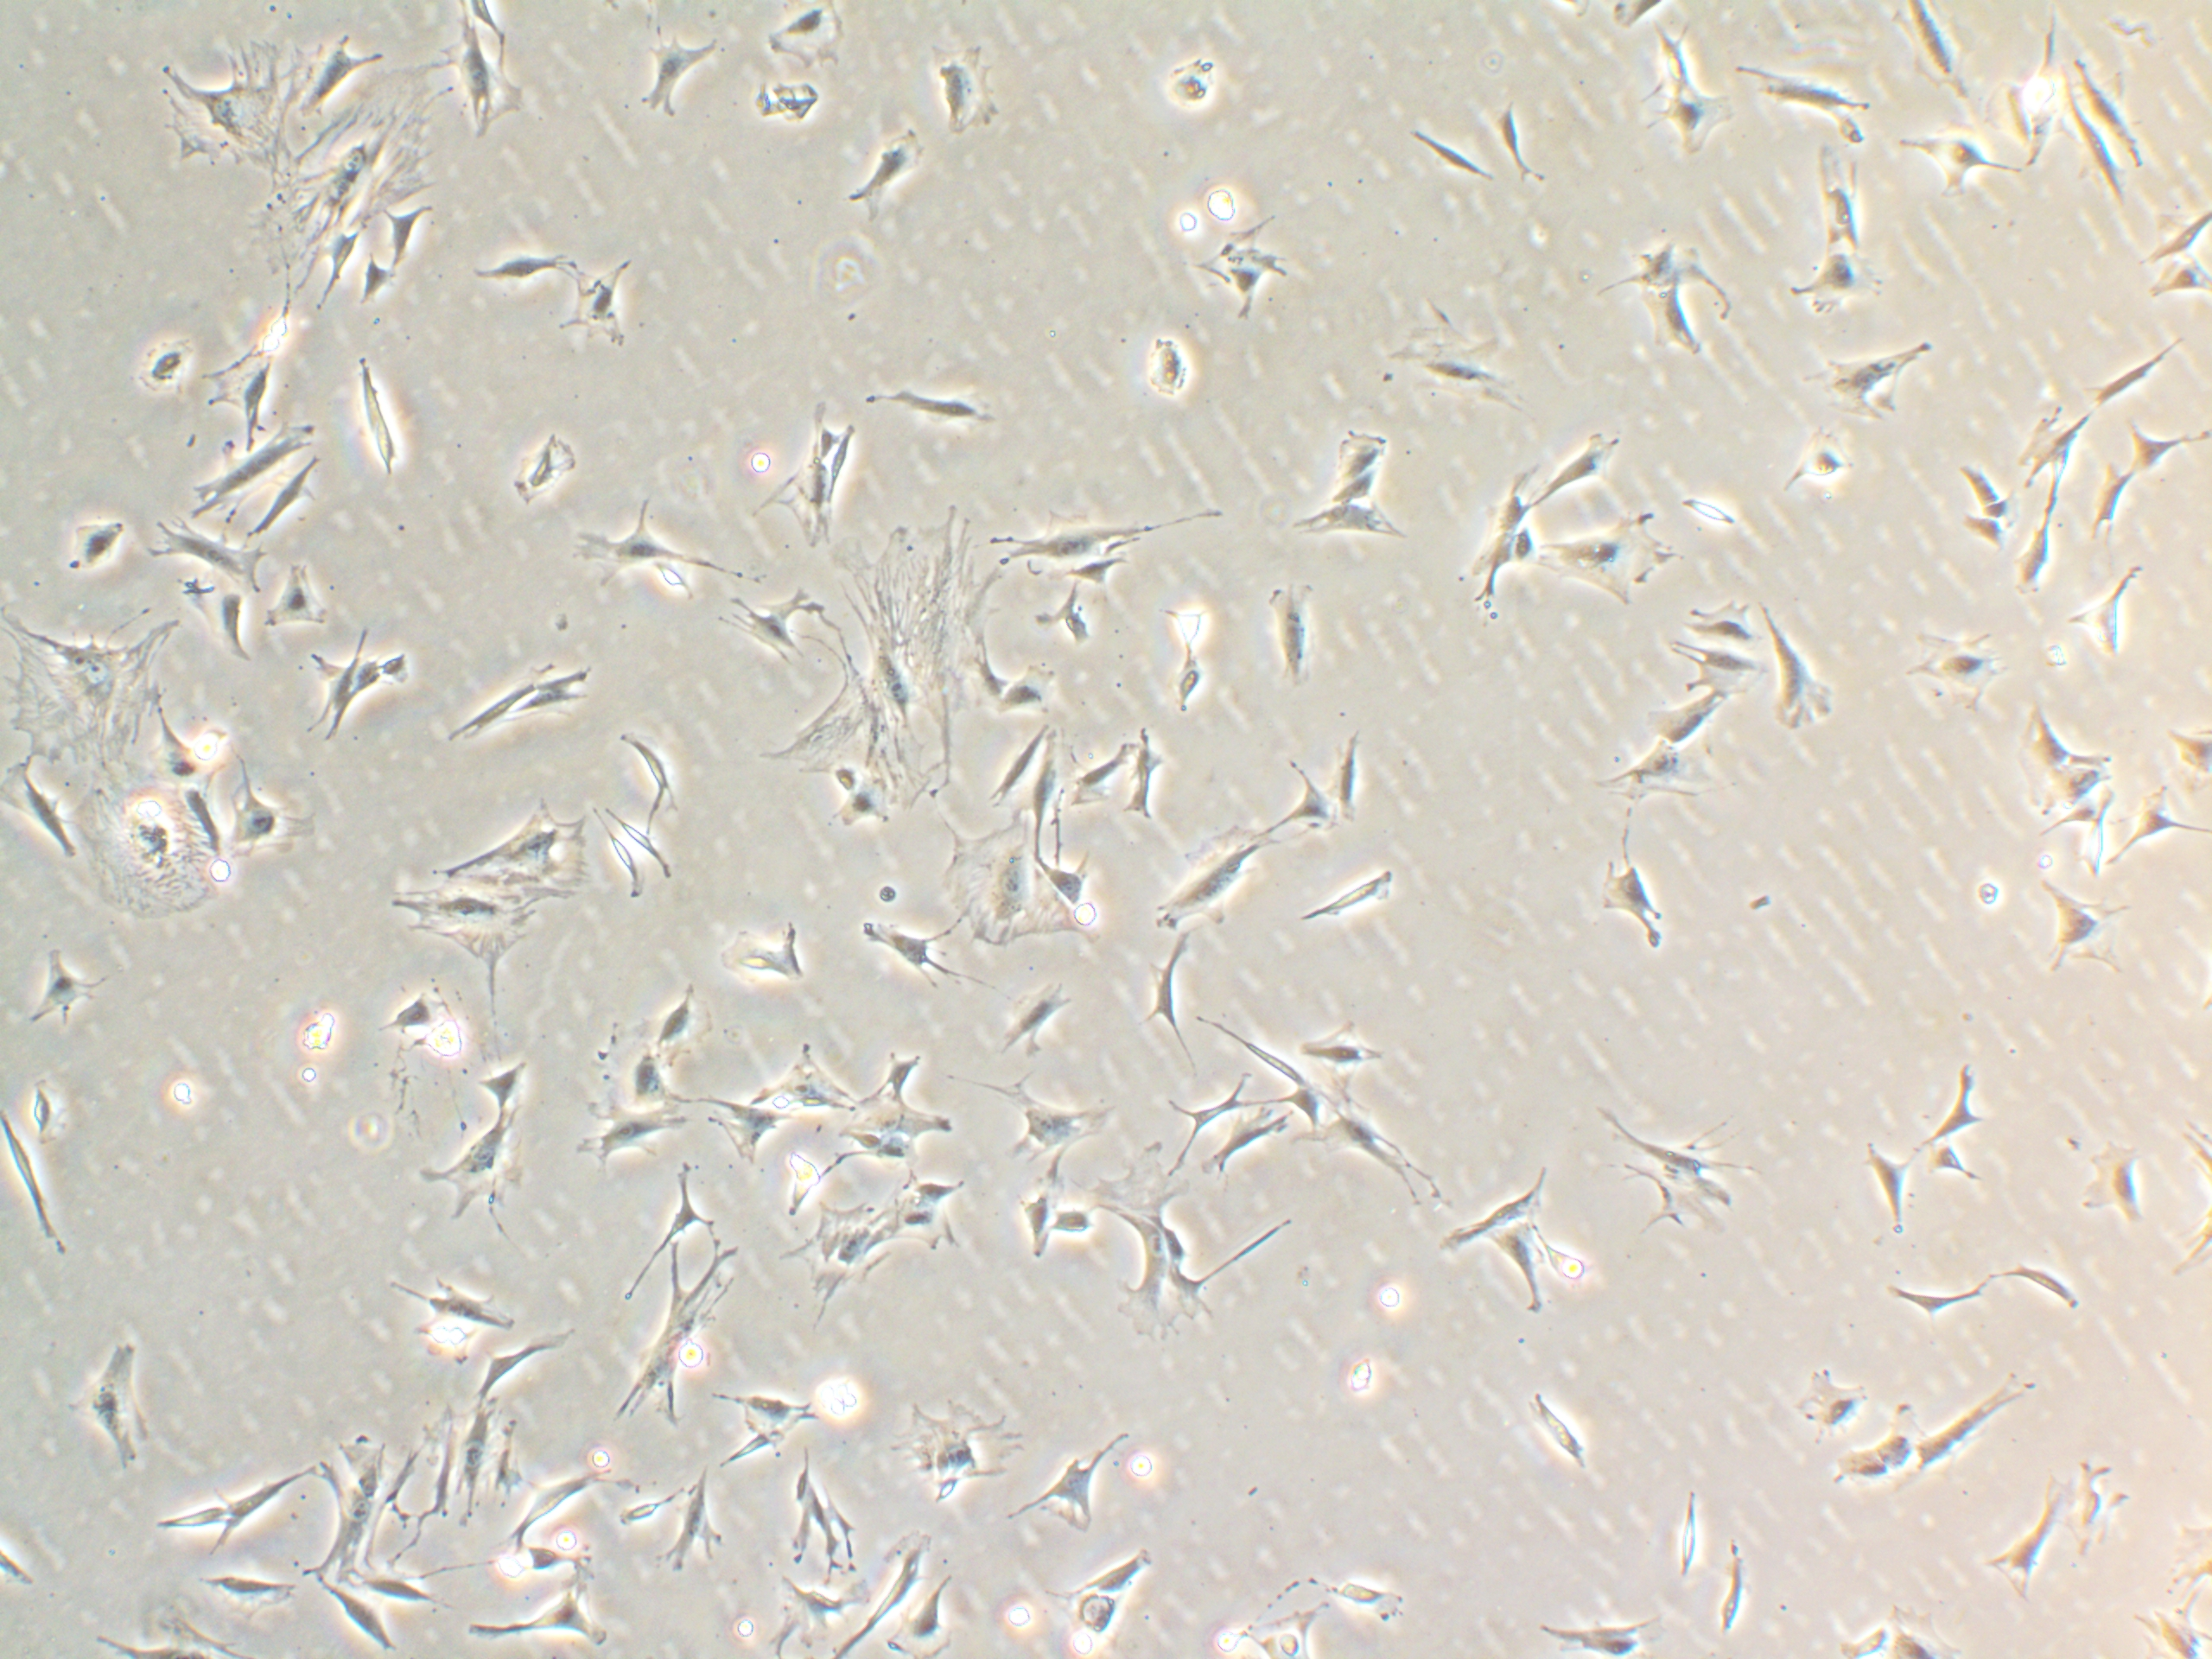Etc: (1179, 1009, 1320, 1091), (340, 354, 421, 495), (1294, 852, 1404, 927), (611, 725, 691, 823), (601, 802, 679, 889), (583, 807, 646, 913), (1663, 1473, 1717, 1593), (1672, 484, 1752, 544), (148, 1499, 230, 1544)
polygonal: (573, 486, 784, 622), (1594, 1101, 1763, 1255), (1376, 296, 1554, 425), (1000, 488, 1235, 582), (56, 1312, 181, 1486), (1911, 1358, 2052, 1490), (1747, 587, 1851, 756), (1876, 612, 2022, 732), (392, 1114, 523, 1246), (1012, 1419, 1155, 1537), (1305, 1089, 1451, 1204), (961, 1079, 1144, 1169), (192, 408, 331, 526), (1717, 52, 1883, 150), (833, 1513, 942, 1659), (1139, 823, 1270, 941), (1890, 108, 2033, 213), (1420, 1159, 1564, 1262), (2019, 877, 2146, 992), (469, 1565, 618, 1659), (2043, 73, 2144, 213), (853, 908, 995, 1007), (1803, 331, 1951, 425), (700, 908, 819, 1023), (1982, 1471, 2080, 1608), (1136, 931, 1211, 1094), (1109, 1192, 1181, 1361), (143, 516, 277, 605), (738, 1039, 866, 1131), (1578, 742, 1735, 816), (559, 1093, 685, 1182), (923, 33, 1014, 155), (2080, 321, 2193, 418), (197, 1459, 327, 1542), (1251, 566, 1332, 699), (1526, 423, 1641, 518), (1831, 1134, 1923, 1251), (655, 1462, 732, 1601), (853, 378, 1014, 444), (465, 1321, 582, 1412), (2101, 781, 2212, 875), (1634, 78, 1740, 176), (1198, 216, 1291, 328), (2078, 1121, 2170, 1232), (449, 648, 557, 742), (1487, 91, 1569, 214), (1916, 1058, 2008, 1166), (542, 242, 634, 350), (1585, 847, 1676, 957), (1993, 1237, 2101, 1328), (1273, 491, 1433, 552), (1526, 1601, 1695, 1659), (691, 1089, 794, 1182), (1390, 113, 1507, 193), (202, 342, 294, 443), (496, 1457, 604, 1542), (606, 981, 711, 1068), (1629, 281, 1714, 385), (631, 28, 723, 122), (305, 1567, 401, 1657), (836, 127, 925, 225), (1315, 718, 1393, 828), (686, 1382, 822, 1445), (1047, 1542, 1160, 1617), (1487, 1220, 1566, 1324), (1280, 1007, 1404, 1073), (465, 239, 594, 301), (1864, 1270, 2000, 1328), (996, 965, 1078, 1060), (894, 1558, 968, 1659), (981, 718, 1062, 810), (1029, 711, 1076, 871), (1763, 256, 1902, 310), (197, 1563, 307, 1631), (17, 941, 101, 1030), (247, 450, 320, 547), (1198, 1101, 1282, 1187), (1527, 1389, 1604, 1481), (1270, 753, 1345, 845), (265, 559, 354, 636), (1061, 730, 1144, 810), (186, 586, 263, 673), (1630, 695, 1745, 753), (514, 657, 615, 721), (348, 1568, 472, 1621), (1012, 1164, 1071, 1270), (474, 1040, 556, 1115), (2127, 401, 2200, 483), (996, 659, 1069, 732), (1923, 1141, 2001, 1206), (1125, 716, 1169, 829), (374, 206, 435, 270)
small: (1771, 413, 1878, 505), (1134, 584, 1223, 664), (1143, 49, 1235, 125), (118, 326, 206, 404), (1134, 321, 1205, 413), (14, 1073, 80, 1157), (56, 504, 136, 570), (1939, 511, 2029, 563), (1158, 645, 1205, 730), (1049, 1197, 1108, 1258), (834, 781, 892, 843), (1959, 444, 1996, 507), (381, 645, 423, 699), (1970, 490, 2036, 519)
spread: (773, 511, 1015, 809), (254, 59, 462, 293), (2, 605, 207, 802), (155, 24, 319, 183), (57, 781, 232, 918), (374, 871, 545, 1009), (421, 795, 611, 904), (1512, 498, 1683, 620), (885, 1377, 1031, 1513), (312, 1425, 430, 1575), (185, 762, 345, 868), (406, 1406, 557, 1516), (954, 814, 1071, 948), (786, 1195, 904, 1326)
